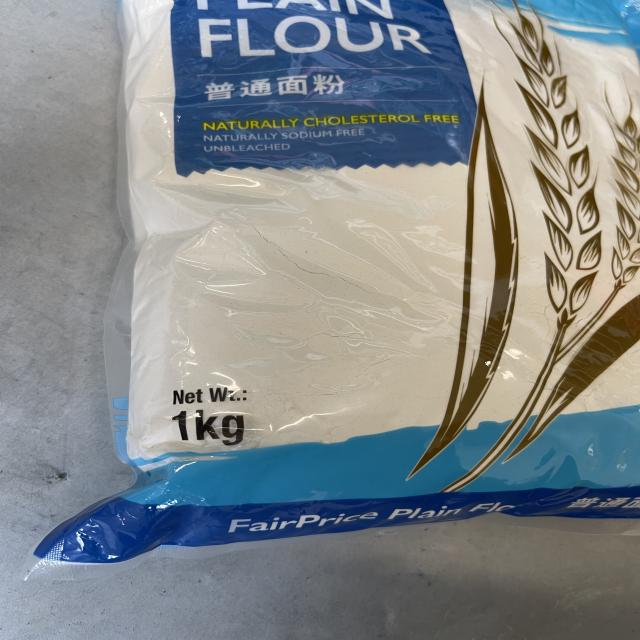object_name: (100, 2, 640, 525)
